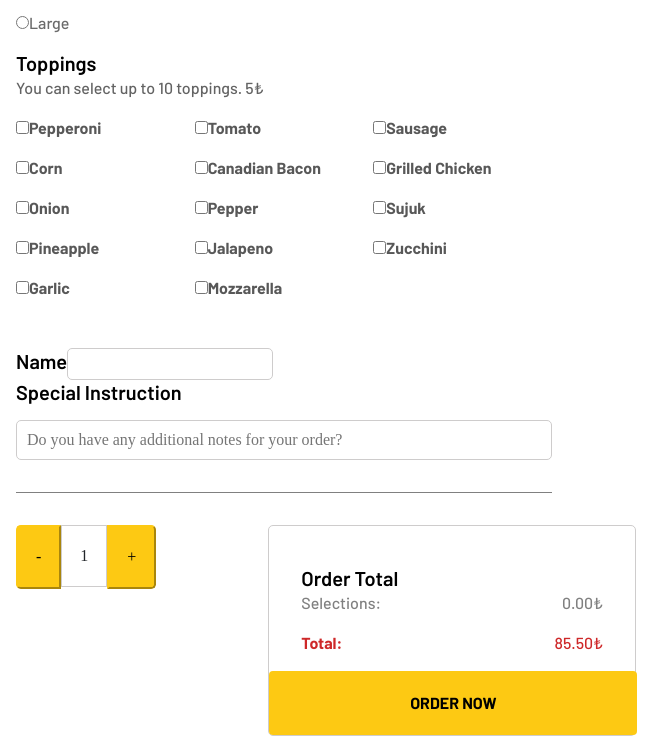
Test: PizzaForm E2E Tests › should not submit with empty required fields
This screenshot has width=654, height=754.
(page scrolled)
Click the button with id "order-button".
click(453, 703)  # box [269,671,637,735]
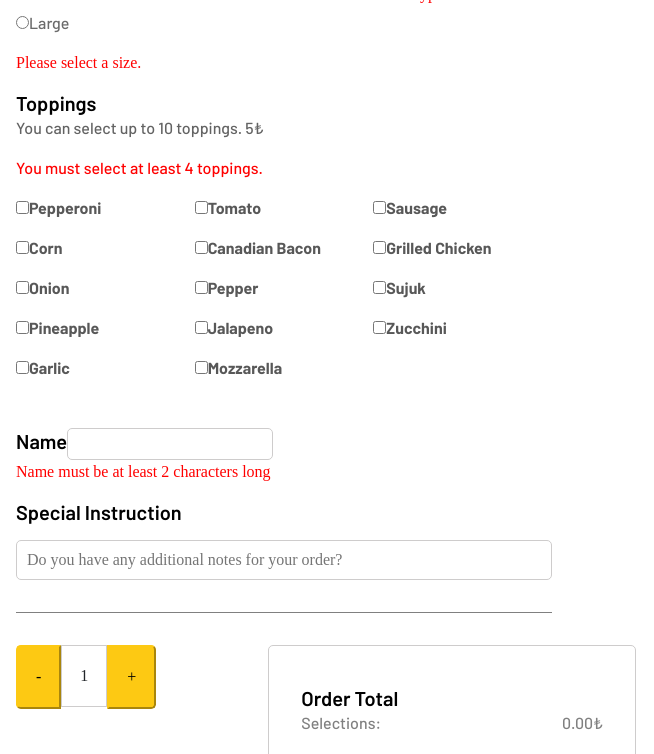
Expected: the text "You must select at least 4 toppings." is shown, [16,158,263,177]
Expected: the text "Please select a size." is shown, [16,54,141,71]
